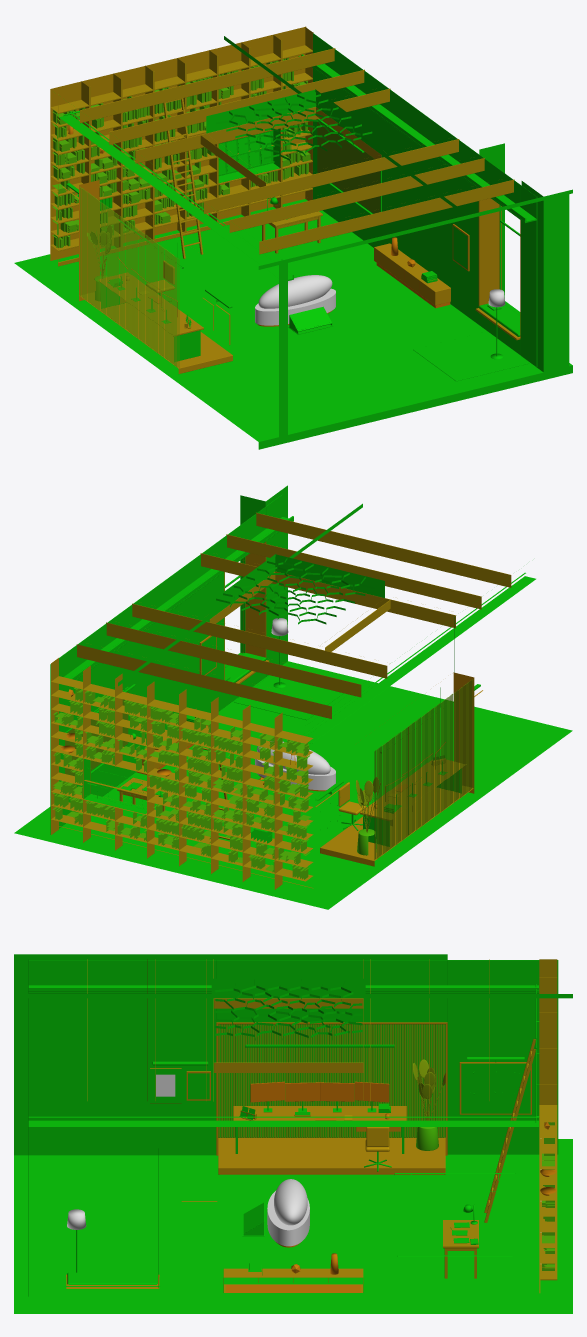
File: room.glb
The picture shows the model from 3 angles, top to bottom: view 1: azimuth 30°, elevation 25°; view 2: azimuth 150°, elevation 25°; view 3: azimuth 270°, elevation 25°; orthographic projection. The views are drawn at different scales.
Parts seen in each view (by area): view 1: g_floor, g_shelf, g_ceiling, g_walls, g_desk, g_misc, g_dark, g_metal_bronze, tissue_core, plinth_glass, g_metal_brass; view 2: g_shelf, g_floor, g_ceiling, g_walls, g_desk, g_metal_bronze, g_misc, g_dark, tissue_core, plinth_glass; view 3: g_floor, g_walls, g_desk, g_misc, g_ceiling, g_dark, g_shelf, g_metal_bronze, tissue_core, plinth_glass, g_metal_brass.
Boxes of the visible parts, x1,y1,x2,y2 form: g_floor: (14,199,572,449); g_shelf: (50,26,313,266); g_ceiling: (59,36,572,280); g_walls: (281,33,537,366); g_desk: (79,180,232,373); g_misc: (62,120,528,381); g_dark: (257,143,569,440); g_metal_bronze: (101,90,520,361); tissue_core: (258,275,332,308); plinth_glass: (255,288,335,325); g_metal_brass: (63,56,364,327); g_shelf: (51,658,313,889); g_floor: (14,661,572,909); g_ceiling: (63,503,535,742); g_walls: (50,495,454,834); g_desk: (320,672,474,866); g_metal_bronze: (64,554,461,846); g_misc: (65,635,482,828); g_dark: (136,485,326,791); tissue_core: (257,741,330,774); plinth_glass: (255,759,335,790); g_floor: (14,1139,572,1313); g_walls: (28,960,558,1296); g_desk: (216,1022,447,1174); g_misc: (43,1024,531,1296); g_ceiling: (14,959,572,1126); g_dark: (14,954,447,1292); g_shelf: (484,959,557,1293); g_metal_bronze: (64,979,527,1287); tissue_core: (274,1179,307,1225); plinth_glass: (267,1191,309,1246); g_metal_brass: (152,984,539,1224).
Bounding box in the file's own units: 8.6 × 5.16 × 11.6.
